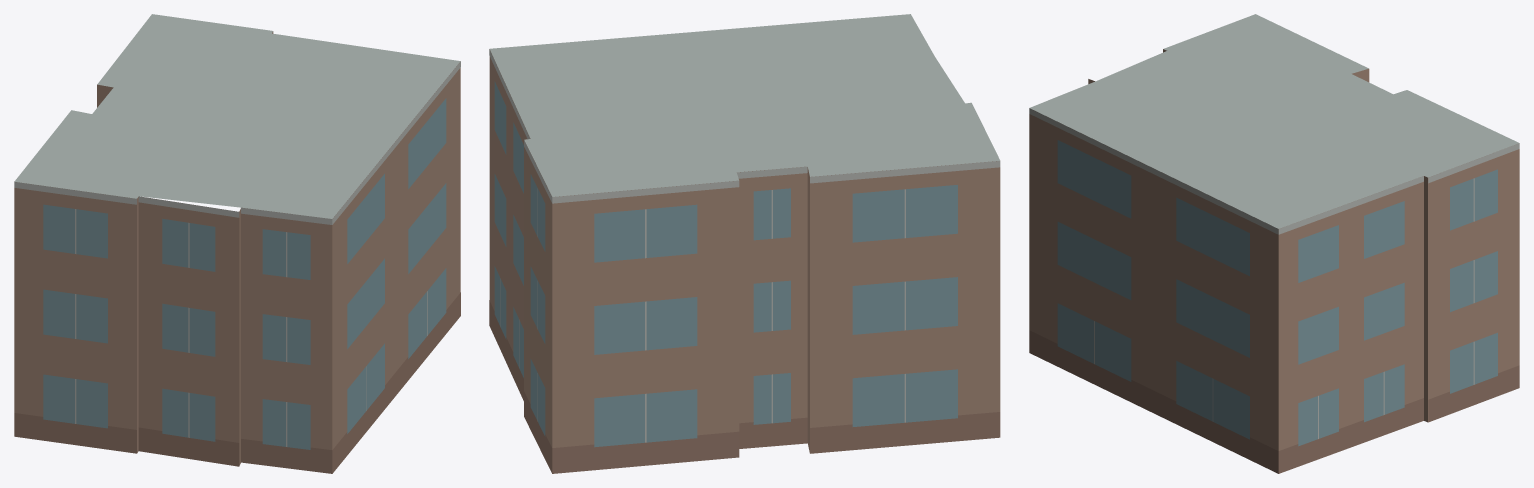
The model's file is survey-upis-32624897.glb.
The picture shows the model from 3 angles, left to right: view 1: azimuth 30°, elevation 25°; view 2: azimuth 150°, elevation 25°; view 3: azimuth 270°, elevation 25°; orthographic projection. The views are drawn at different scales.
Visible parts, largest first — view 1: survey-upis-32624897.tmp; view 2: survey-upis-32624897.tmp; view 3: survey-upis-32624897.tmp.
Boxes of the visible parts, bbox=[...] form: survey-upis-32624897.tmp: bbox=[14, 14, 460, 473]; survey-upis-32624897.tmp: bbox=[489, 14, 1000, 473]; survey-upis-32624897.tmp: bbox=[1029, 14, 1519, 473].
Bounding box in the file's own units: 19.3 × 10.25 × 18.61.
